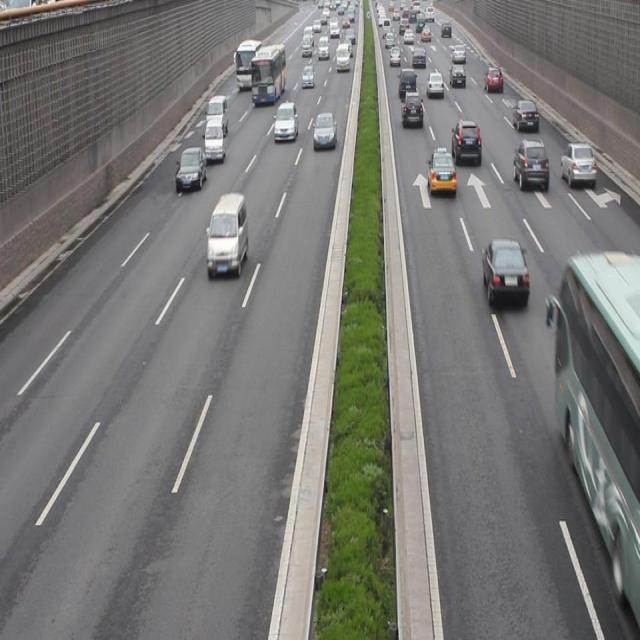car: (481, 239, 527, 305), (512, 140, 548, 190), (558, 142, 596, 188), (175, 147, 207, 190), (426, 147, 455, 193), (450, 121, 480, 163), (400, 90, 423, 130), (313, 110, 335, 150), (274, 103, 296, 142), (511, 100, 537, 130)
truck: (205, 194, 248, 278), (205, 97, 228, 139), (204, 119, 225, 164)
van: (556, 256, 640, 608)
